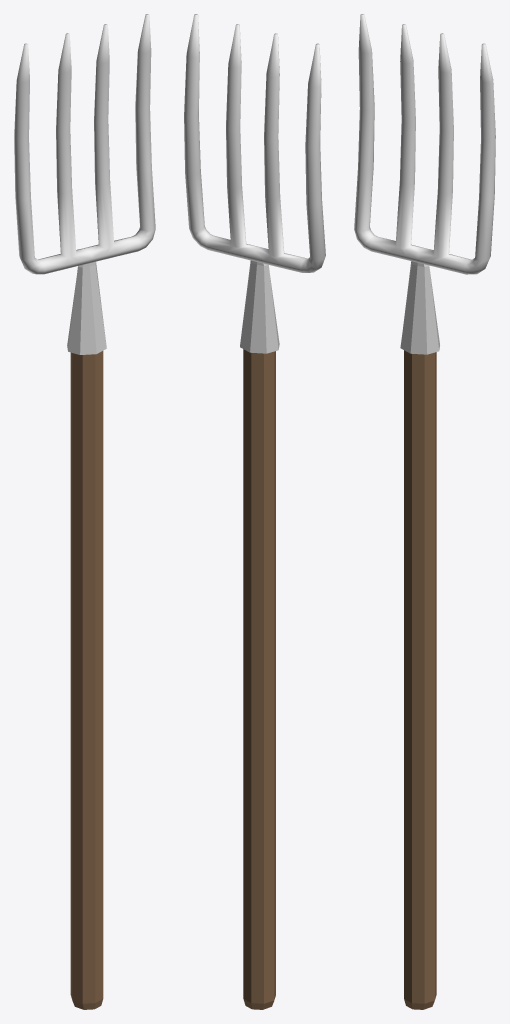
Rendered from HayFork.fbx.
3 views of the same model, side by side, from view 1: azimuth 30°, elevation 25°; view 2: azimuth 150°, elevation 25°; view 3: azimuth 330°, elevation 25° (orthographic).
Visible parts, largest first — view 1: HayFork_Combined, HayFork_Combined.001; view 2: HayFork_Combined, HayFork_Combined.001; view 3: HayFork_Combined, HayFork_Combined.001.
Part boxes in pixels (x1,y1,x2,y2): HayFork_Combined: (67, 261, 106, 1009); HayFork_Combined.001: (14, 14, 155, 274); HayFork_Combined: (240, 260, 279, 1009); HayFork_Combined.001: (184, 14, 325, 272); HayFork_Combined: (400, 261, 439, 1009); HayFork_Combined.001: (354, 14, 495, 274).
Bounding box in the file's own units: 47.56 × 329 × 12.1.
